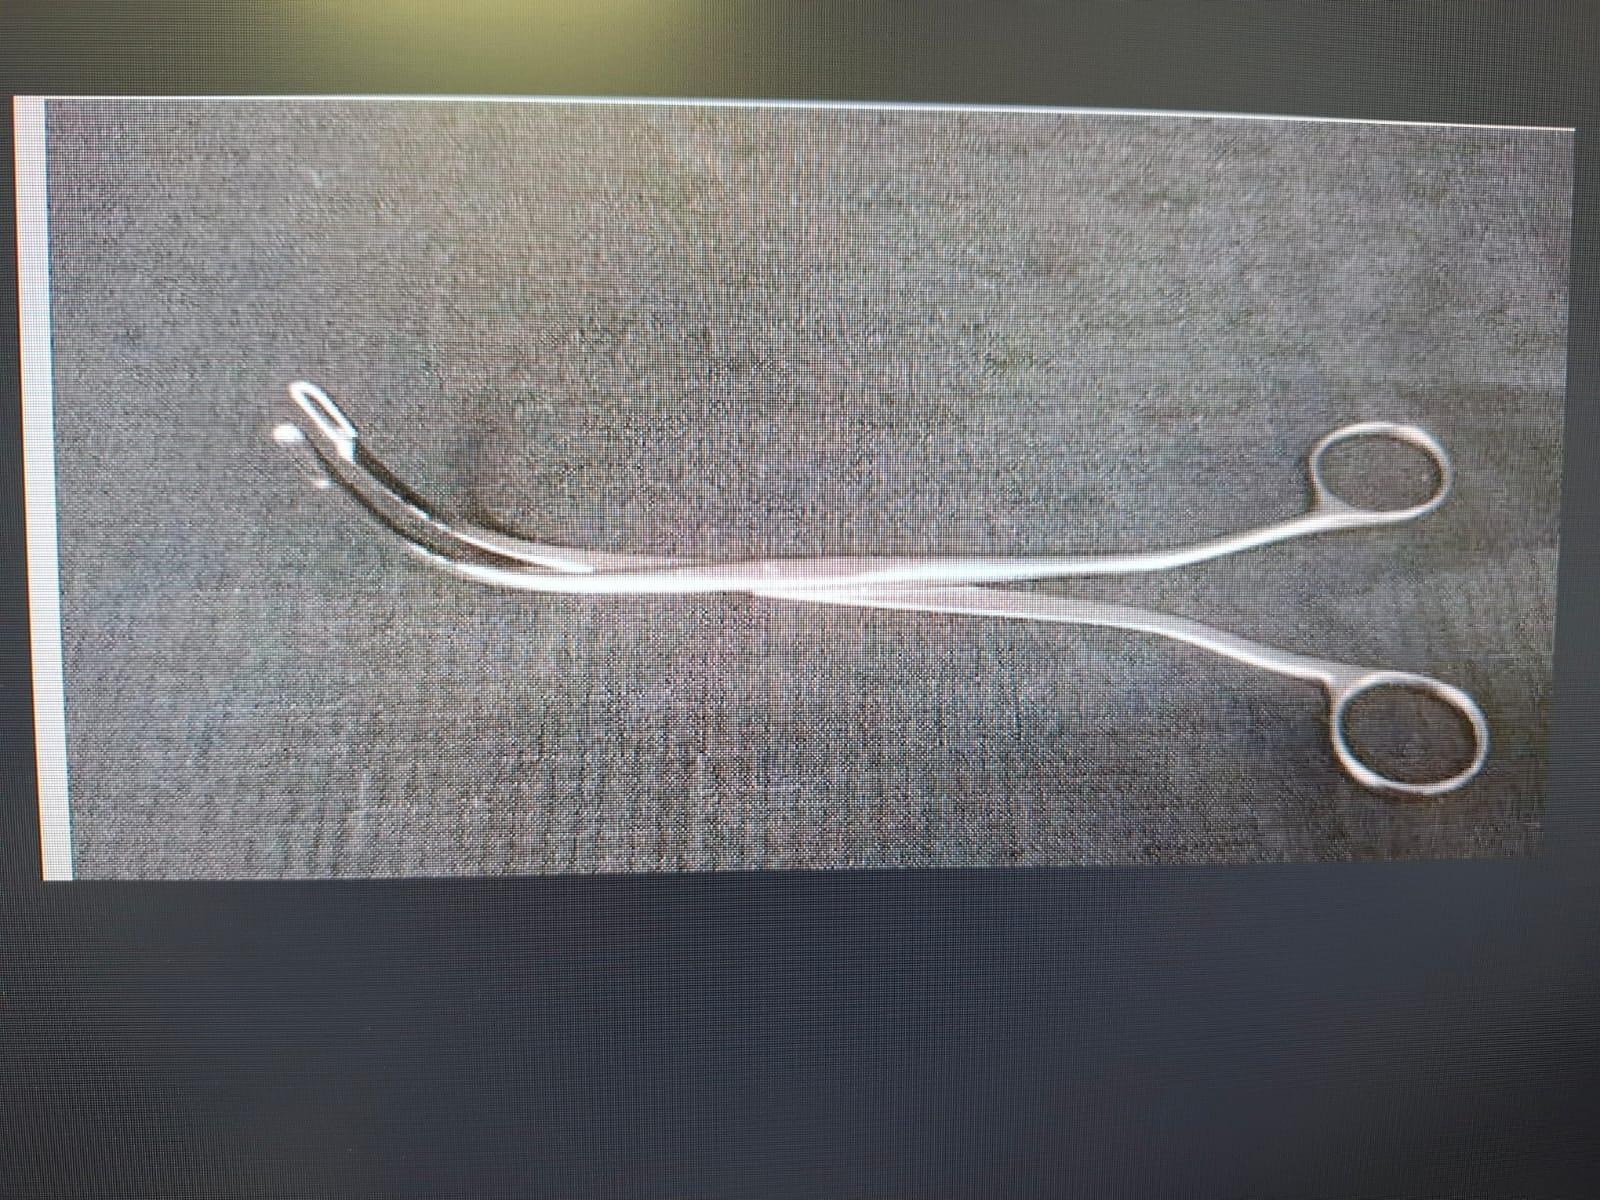Randall Forceps: (262, 332, 1506, 802)
